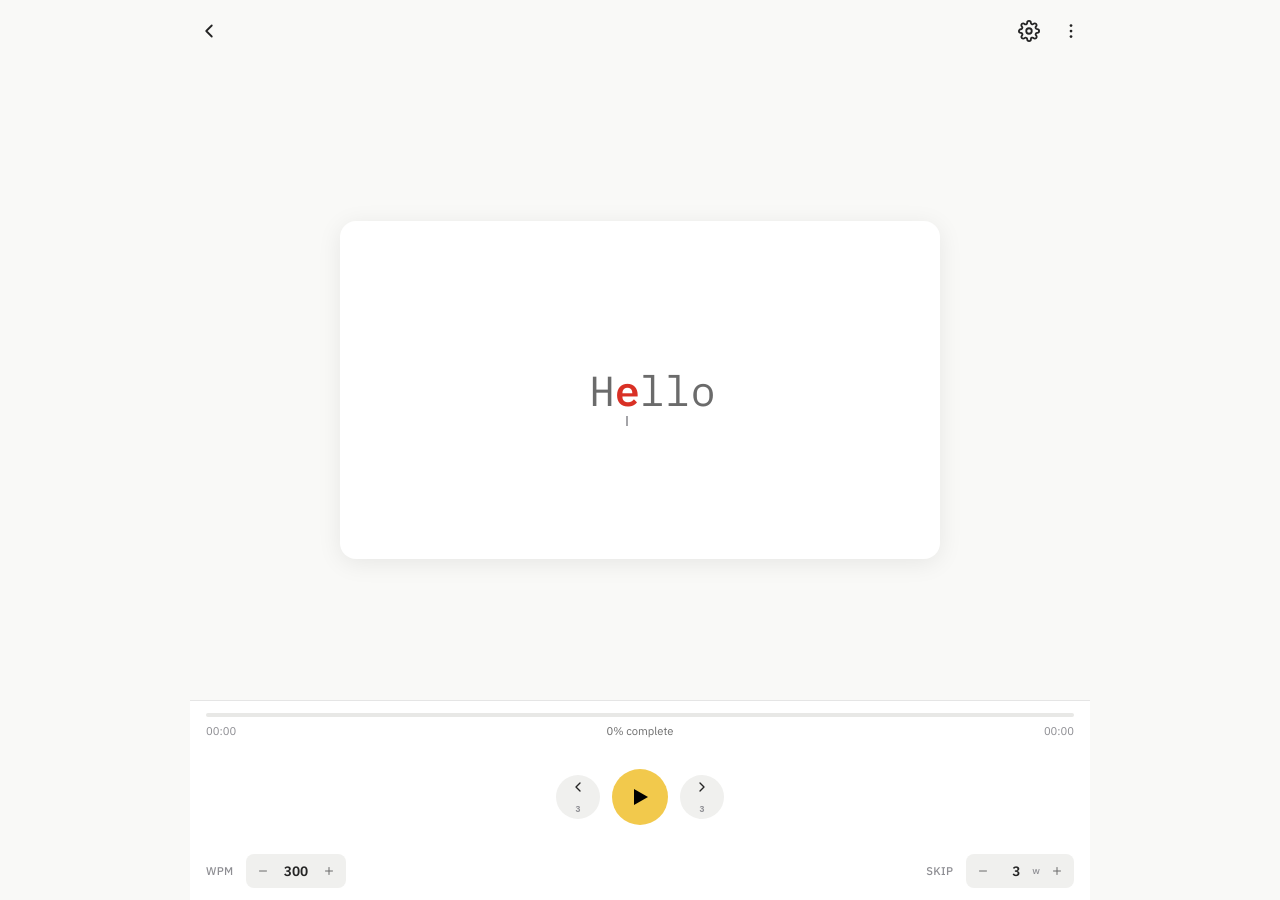
Test: RSVPPlayer › WPM control › changes WPM via stepper buttons
# Find the increase WPM button
Click the button named "Increase WPM": (329, 871) [316,858,342,884]
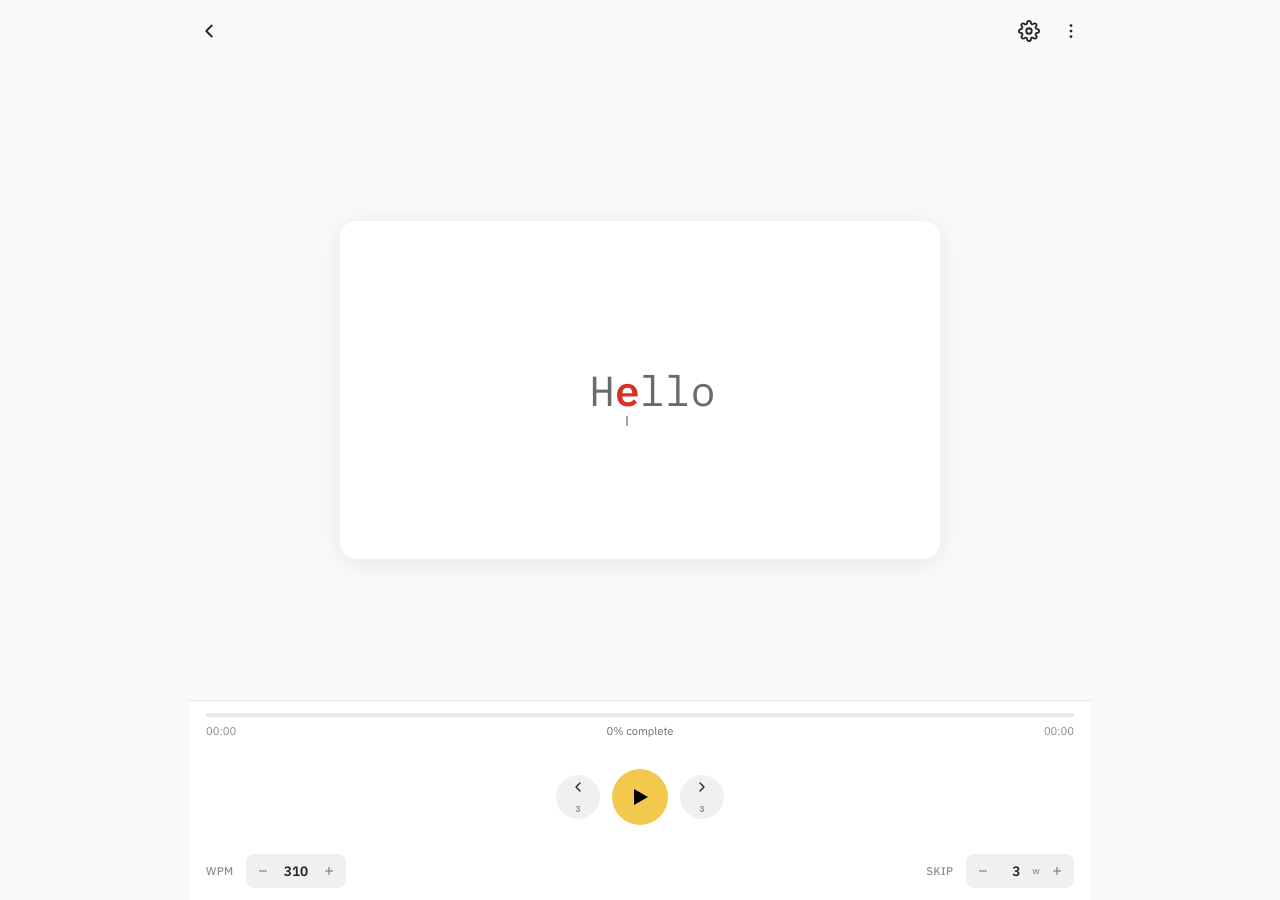
Check: the text "310" is shown, box [284,862,308,880]
